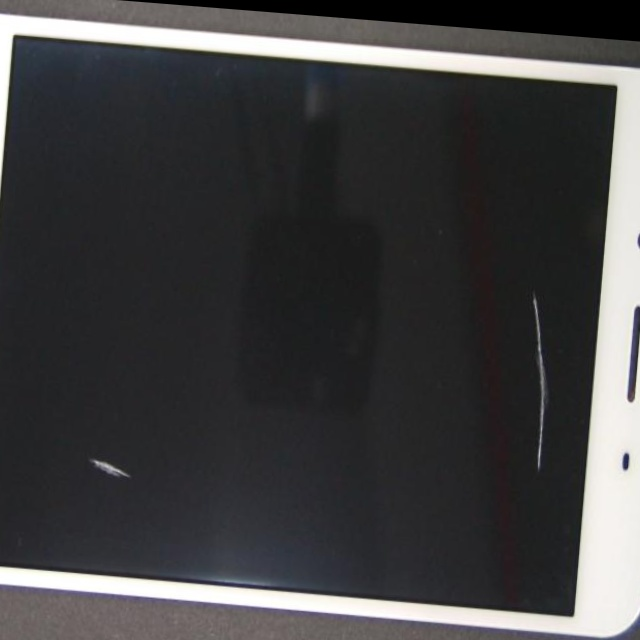scratch: (239, 167, 640, 441)
